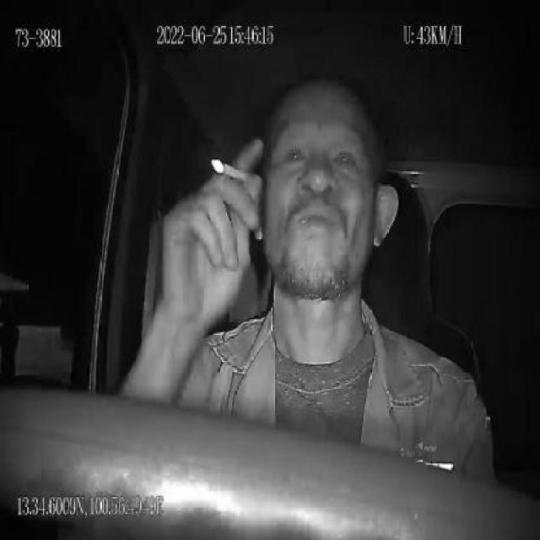smoking: (210, 155, 251, 183)
